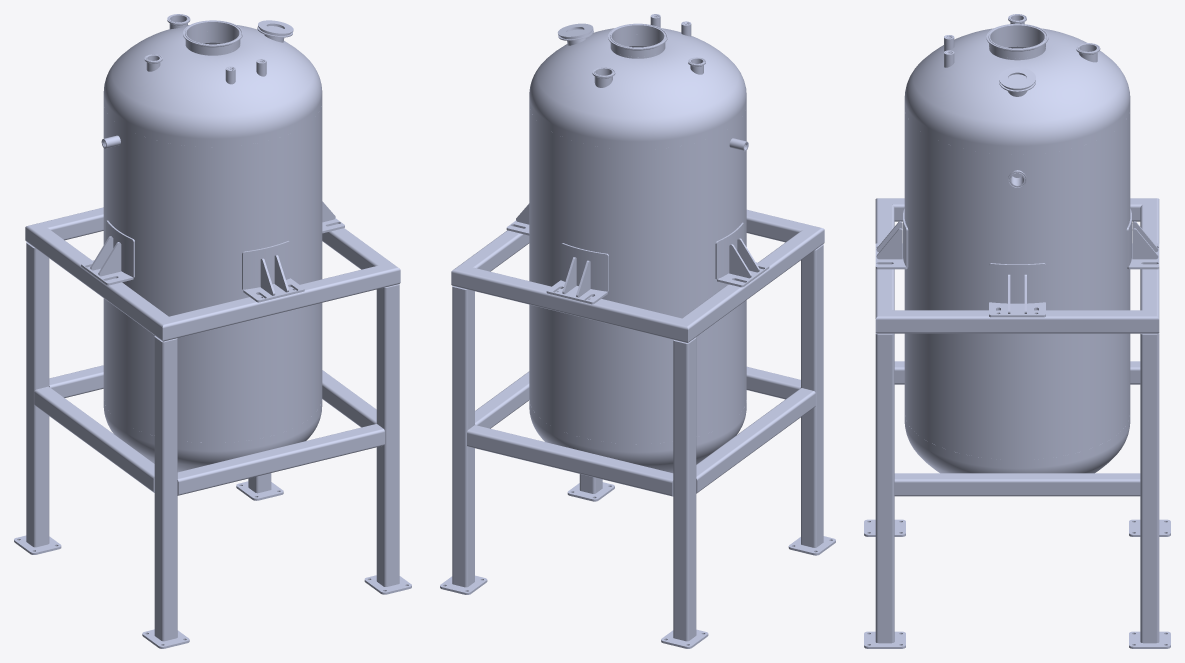
File: tank.glb
3 views of the same model, side by side, from view 1: azimuth 30°, elevation 25°; view 2: azimuth 150°, elevation 25°; view 3: azimuth 270°, elevation 25° (orthographic). The views are drawn at different scales.
Visible parts, largest first — view 1: 13. Shell 3.STEP-1, Frame 2x2x0.25_Default_As Machined_.STEP-1, Top Ellipsoidal Head.STEP-1, 14. Ellipsoidal Head 3.STEP-1, Clamp Plate 3.STEP-1 (×2), 8. Ferrule 6 inch.STEP-1, Clamp Plate 1.STEP-1, 9. Pipe 152.4mm.STEP-1, 10. Meta Sight Glasses 2 inch.STEP-1; view 2: 13. Shell 3.STEP-1, Frame 2x2x0.25_Default_As Machined_.STEP-1, Top Ellipsoidal Head.STEP-1, 14. Ellipsoidal Head 3.STEP-1, Clamp Plate 3.STEP-1 (×2), 8. Ferrule 6 inch.STEP-1, Clamp Plate 1.STEP-1, 9. Pipe 152.4mm.STEP-1, 10. Meta Sight Glasses 2 inch.STEP-1; view 3: 13. Shell 3.STEP-1, Frame 2x2x0.25_Default_As Machined_.STEP-1, Top Ellipsoidal Head.STEP-1, 14. Ellipsoidal Head 3.STEP-1, Clamp Plate 3.STEP-1, 8. Ferrule 6 inch.STEP-1, 10. Meta Sight Glasses 2 inch.STEP-1, Clamp Plate 1.STEP-1, 9. Pipe 152.4mm.STEP-1, Clamp Plate 2.STEP-1, Clamp Plate 2.STEP-2, Frame Bottom Plate.STEP-3 (+1 smaller).
Part boxes in pixels (bbox=[...]): 13. Shell 3.STEP-1: bbox=[103, 103, 322, 442]; Frame 2x2x0.25_Default_As Machined_.STEP-1: bbox=[25, 207, 400, 641]; Top Ellipsoidal Head.STEP-1: bbox=[103, 25, 322, 147]; 14. Ellipsoidal Head 3.STEP-1: bbox=[103, 398, 322, 471]; Clamp Plate 3.STEP-1 (×2): bbox=[106, 220, 290, 289]; 8. Ferrule 6 inch.STEP-1: bbox=[183, 20, 242, 53]; Clamp Plate 1.STEP-1: bbox=[243, 278, 304, 302]; 9. Pipe 152.4mm.STEP-1: bbox=[185, 31, 240, 55]; 10. Meta Sight Glasses 2 inch.STEP-1: bbox=[257, 20, 293, 42]; 13. Shell 3.STEP-1: bbox=[529, 107, 746, 444]; Frame 2x2x0.25_Default_As Machined_.STEP-1: bbox=[451, 209, 824, 641]; Top Ellipsoidal Head.STEP-1: bbox=[529, 28, 746, 149]; 14. Ellipsoidal Head 3.STEP-1: bbox=[529, 400, 746, 472]; Clamp Plate 3.STEP-1 (×2): bbox=[560, 222, 744, 291]; 8. Ferrule 6 inch.STEP-1: bbox=[608, 23, 667, 57]; Clamp Plate 1.STEP-1: bbox=[546, 280, 607, 304]; 9. Pipe 152.4mm.STEP-1: bbox=[610, 34, 665, 58]; 10. Meta Sight Glasses 2 inch.STEP-1: bbox=[557, 23, 593, 45]; 13. Shell 3.STEP-1: bbox=[904, 109, 1130, 459]; Frame 2x2x0.25_Default_As Machined_.STEP-1: bbox=[875, 198, 1159, 643]; Top Ellipsoidal Head.STEP-1: bbox=[904, 28, 1130, 154]; 14. Ellipsoidal Head 3.STEP-1: bbox=[904, 414, 1130, 473]; Clamp Plate 3.STEP-1: bbox=[989, 263, 1045, 303]; 8. Ferrule 6 inch.STEP-1: bbox=[986, 23, 1048, 58]; 10. Meta Sight Glasses 2 inch.STEP-1: bbox=[999, 67, 1035, 96]; Clamp Plate 1.STEP-1: bbox=[989, 302, 1045, 317]; 9. Pipe 152.4mm.STEP-1: bbox=[989, 35, 1045, 60]; Clamp Plate 2.STEP-1: bbox=[1132, 228, 1158, 259]; Clamp Plate 2.STEP-2: bbox=[876, 228, 902, 259]; Frame Bottom Plate.STEP-3: bbox=[1129, 631, 1170, 648].
Size of the model in its own units: 0.8087 by 1.62 by 0.8237.
